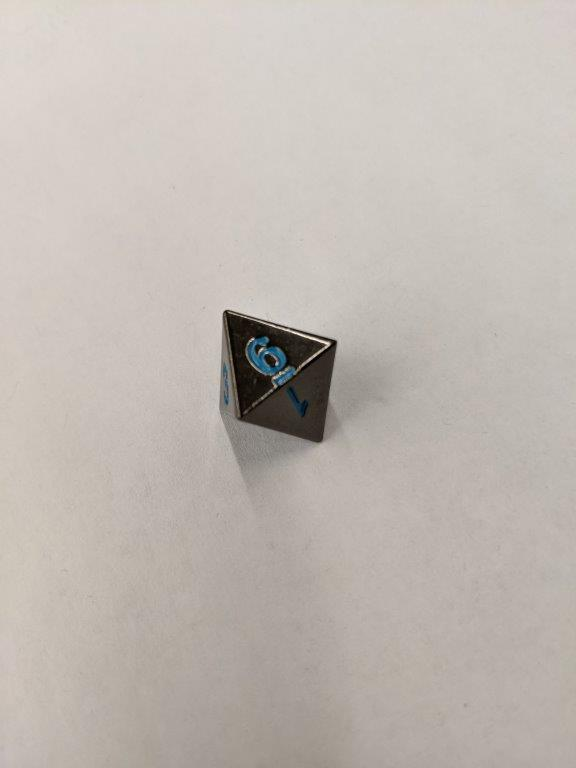d8-6: (218, 307, 336, 448)
